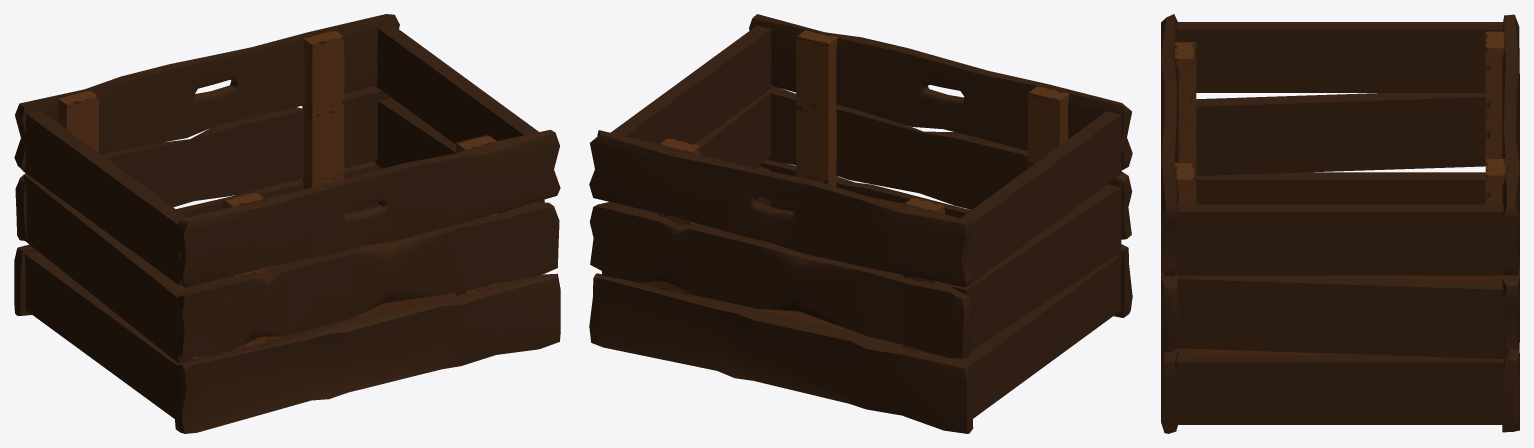
The model's file is topless_crate.glb.
The picture shows the model from 3 angles, left to right: view 1: azimuth 30°, elevation 25°; view 2: azimuth 150°, elevation 25°; view 3: azimuth 270°, elevation 25°; orthographic projection. The views are drawn at different scales.
Parts seen in each view (by area): view 1: Object_2; view 2: Object_2; view 3: Object_2.
Part boxes in pixels (box(x1,y1,x2,y2)): Object_2: box(14, 14, 560, 433); Object_2: box(589, 14, 1132, 433); Object_2: box(1161, 14, 1519, 433).
Bounding box in the file's own units: 2 × 1.07 × 1.54.
Materials: 1 (1 with a texture image).
